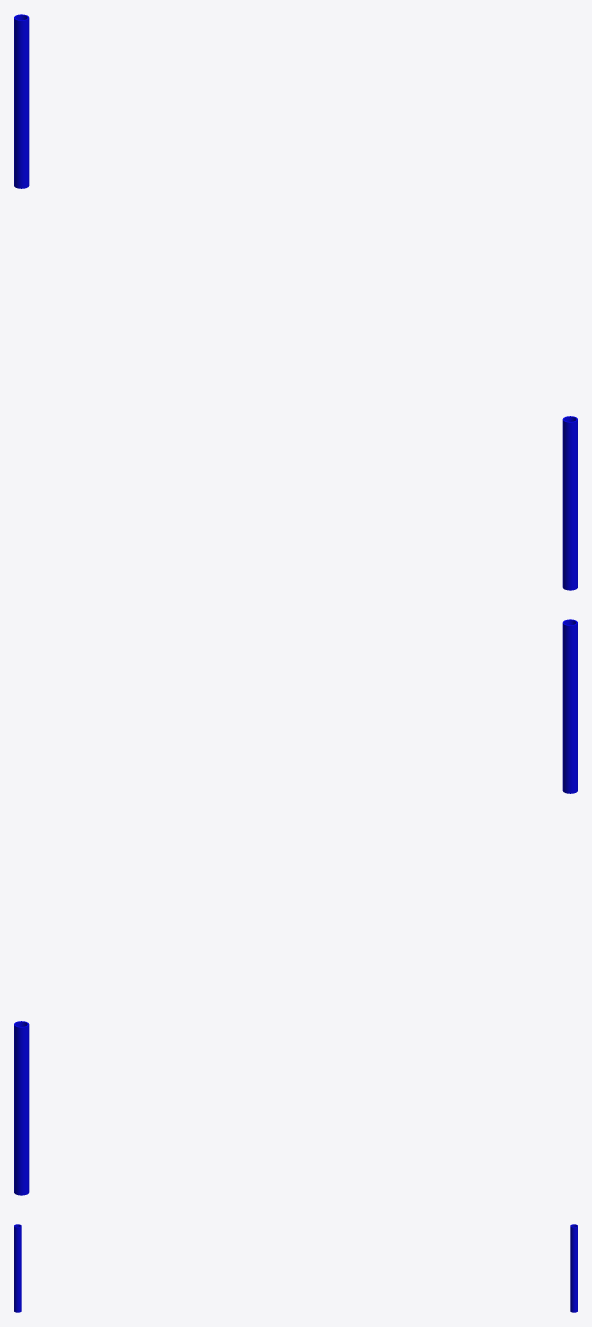
File: PROPULSION__rudder assembly__SS sleeve.glb
3 views of the same model, one above another, from view 1: azimuth 30°, elevation 25°; view 2: azimuth 150°, elevation 25°; view 3: azimuth 270°, elevation 25° (orthographic). The views are drawn at different scales.
Parts seen in each view (by area): view 1: SS sleeve; view 2: SS sleeve; view 3: SS sleeve.
Boxes of the visible parts, bbox=[...] form: SS sleeve: bbox=[14, 14, 577, 590]; SS sleeve: bbox=[14, 619, 577, 1195]; SS sleeve: bbox=[14, 1224, 577, 1312].
Bounding box in the file's own units: 0.0635 × 0.7719 × 4.64.
